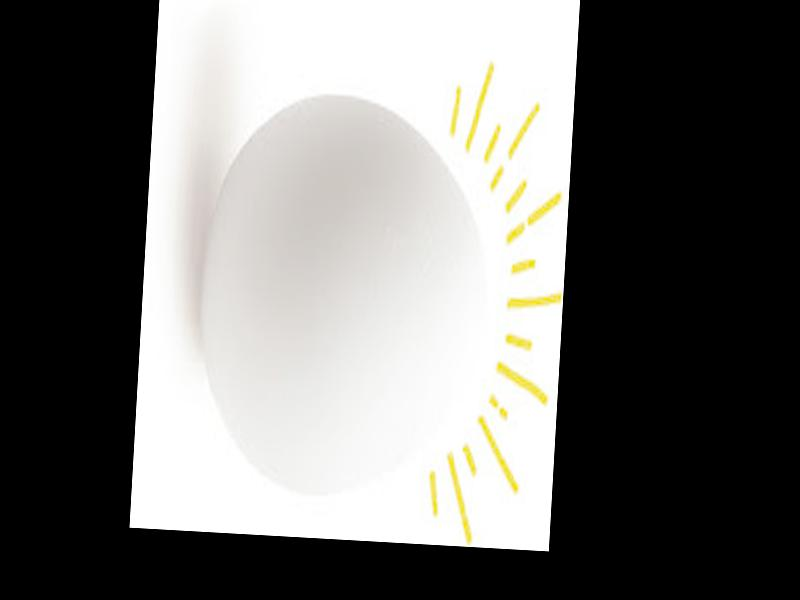Eggs: (190, 88, 494, 507)
